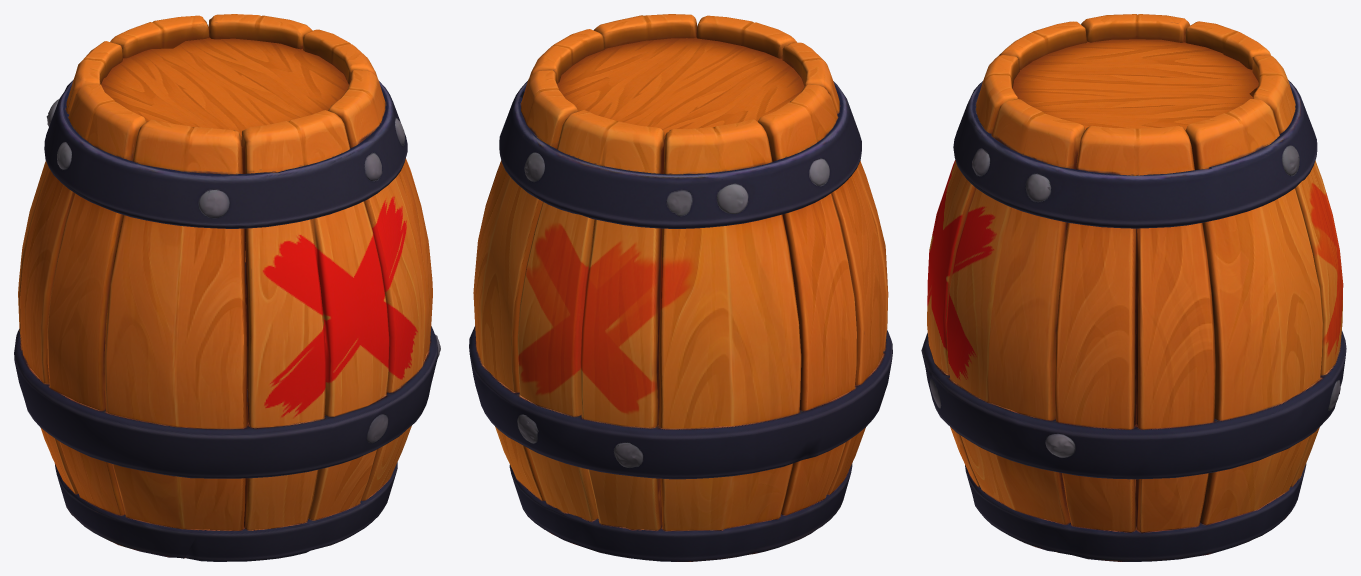
Rendered from Meshy_AI_Red_X_Barrel_20261125_texture.glb.
The picture shows the model from 3 angles, left to right: view 1: azimuth 30°, elevation 25°; view 2: azimuth 150°, elevation 25°; view 3: azimuth 270°, elevation 25°; orthographic projection.
Size of the model in its own units: 0.8677 by 0.9507 by 0.8706.
1 material, 1 textured.
